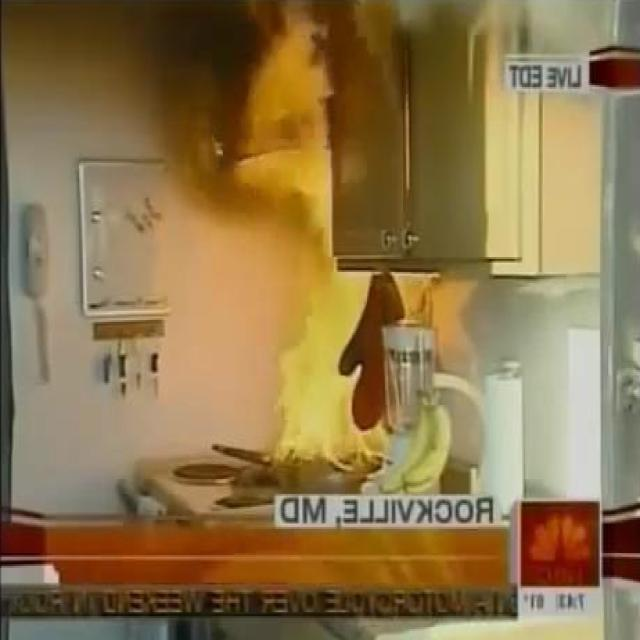fire: (152, 0, 238, 194)
smoke: (212, 10, 439, 471)
